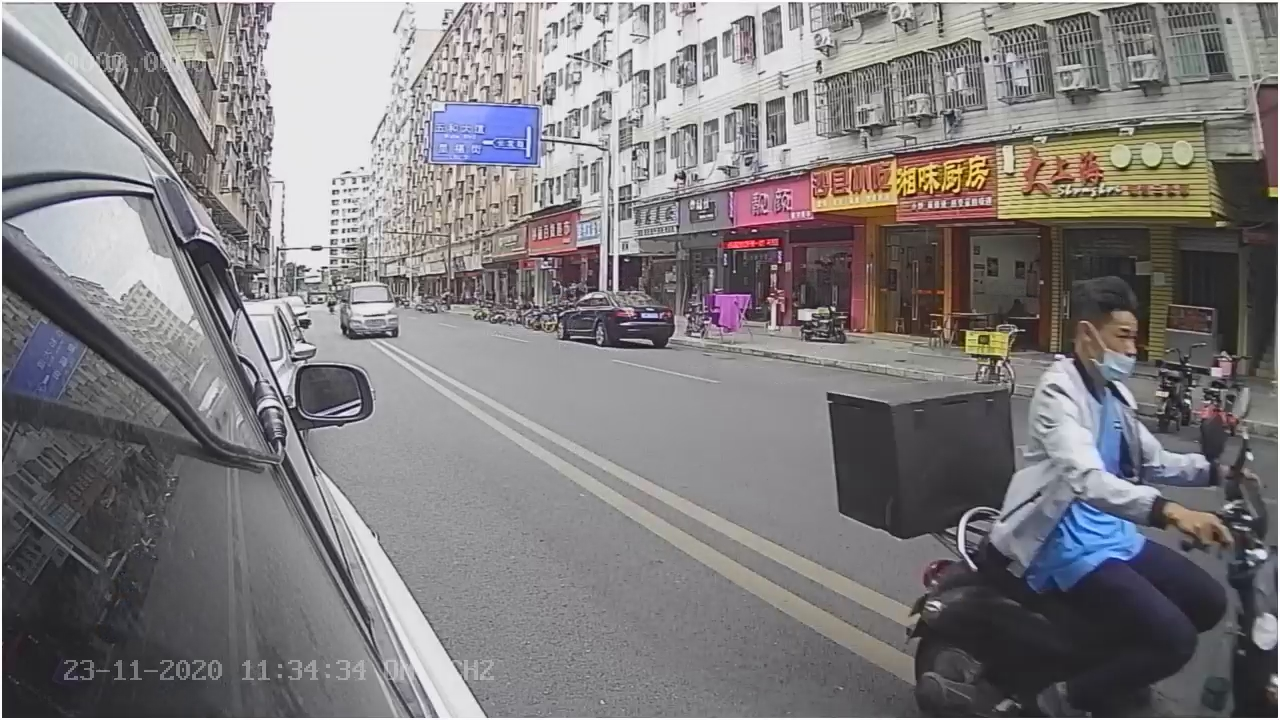person: (1025, 272, 1232, 541)
